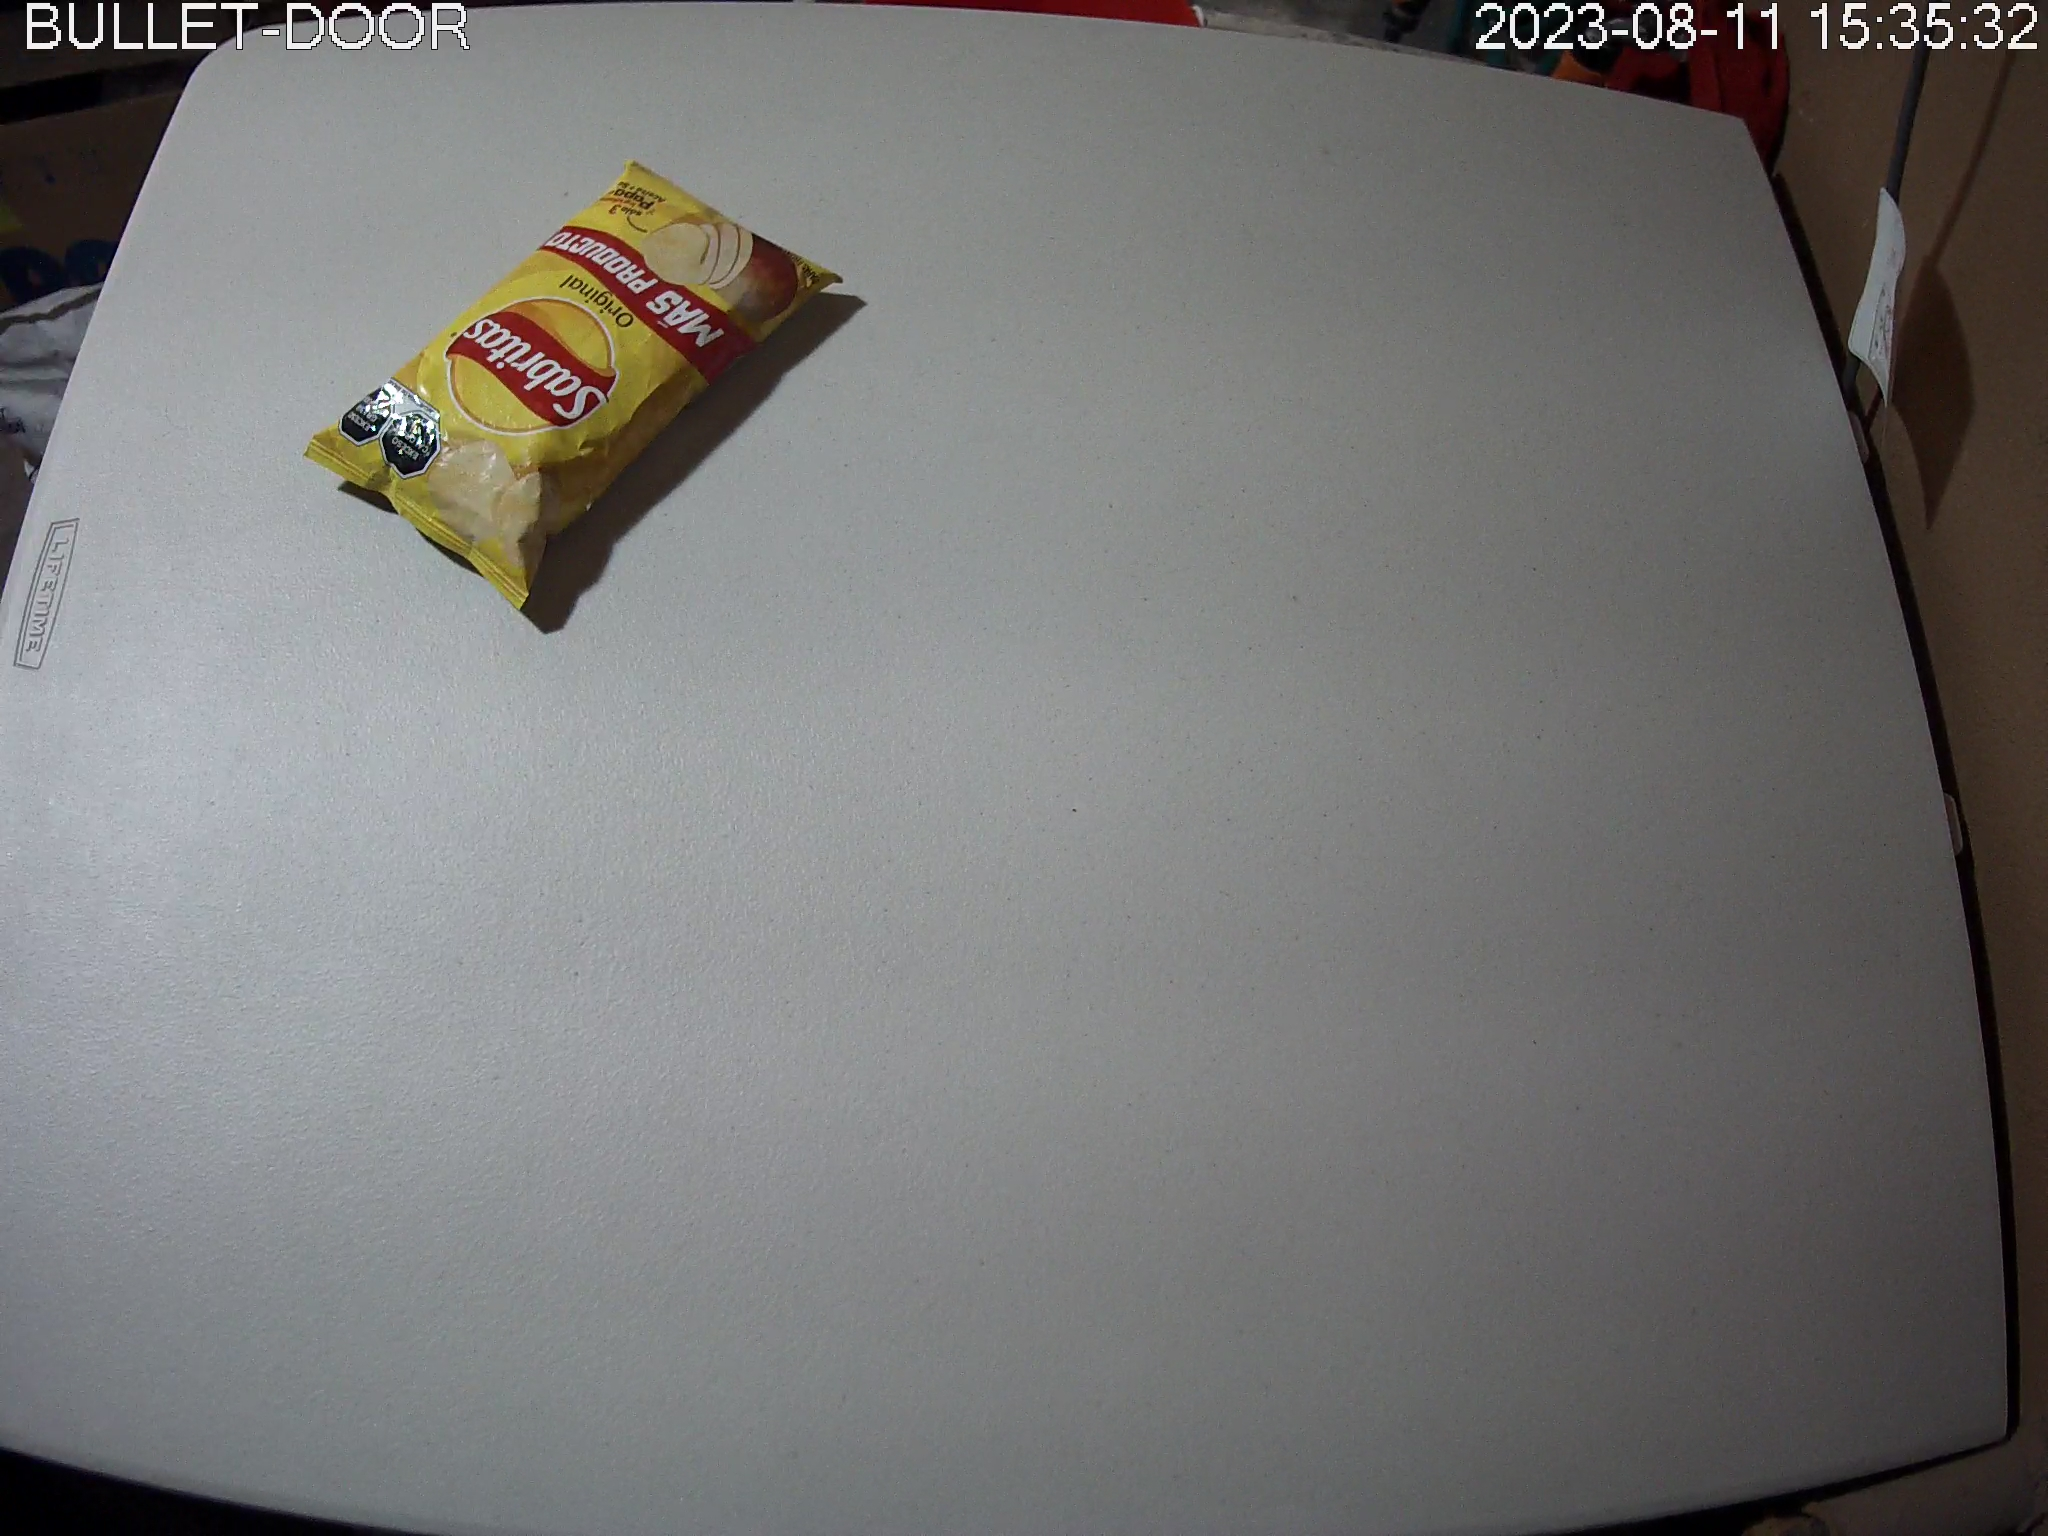Sabritas_45_F: (300, 160, 847, 615)
